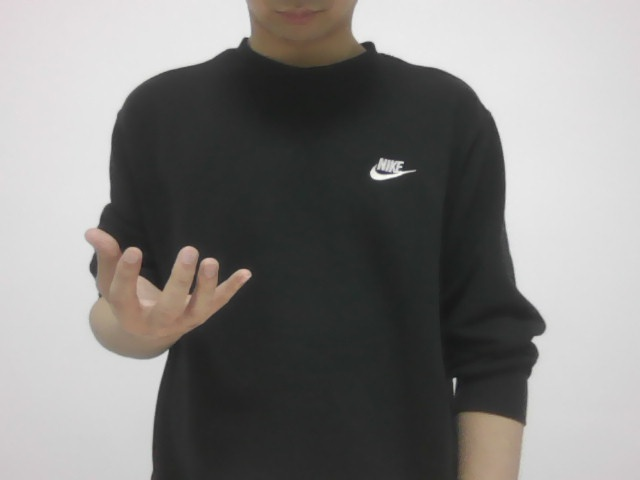flavor: (53, 224, 260, 352)
